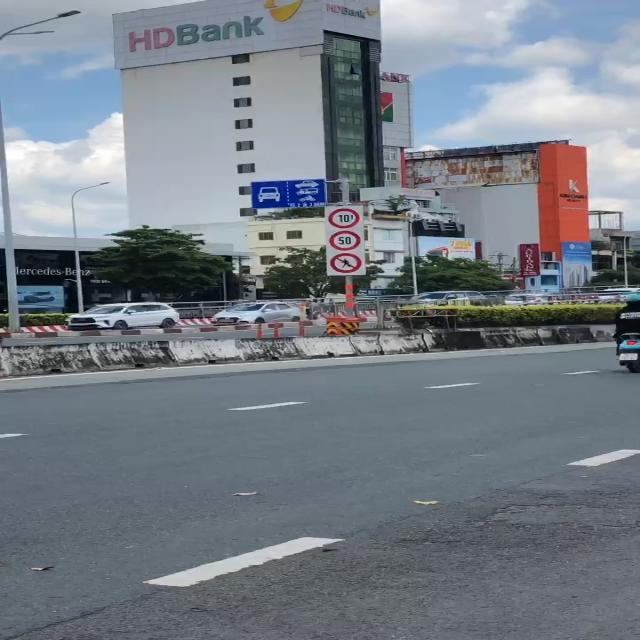Bien bao cam nguoi di bo: (328, 252, 364, 274)
Bien bao toc do toi da cho phep: (326, 230, 367, 252)
